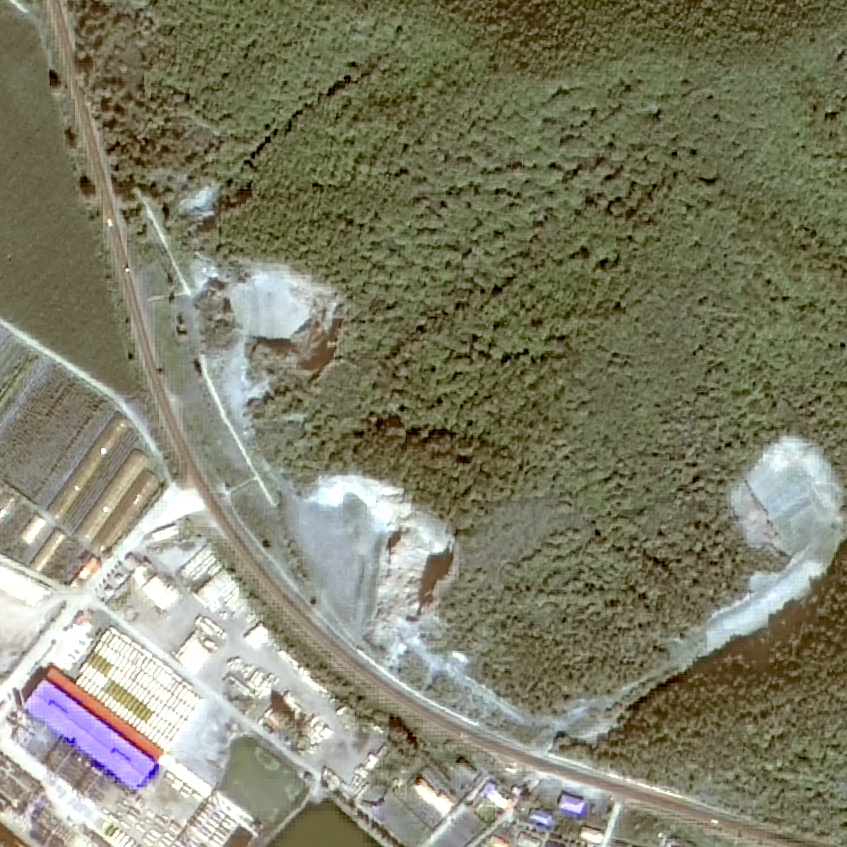slope: (692, 431, 846, 656), (275, 473, 456, 655), (210, 256, 346, 434)
